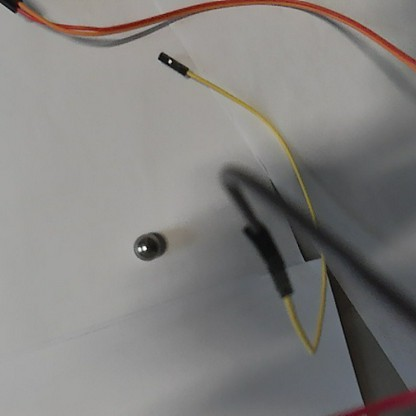ironball: (131, 231, 168, 260)
